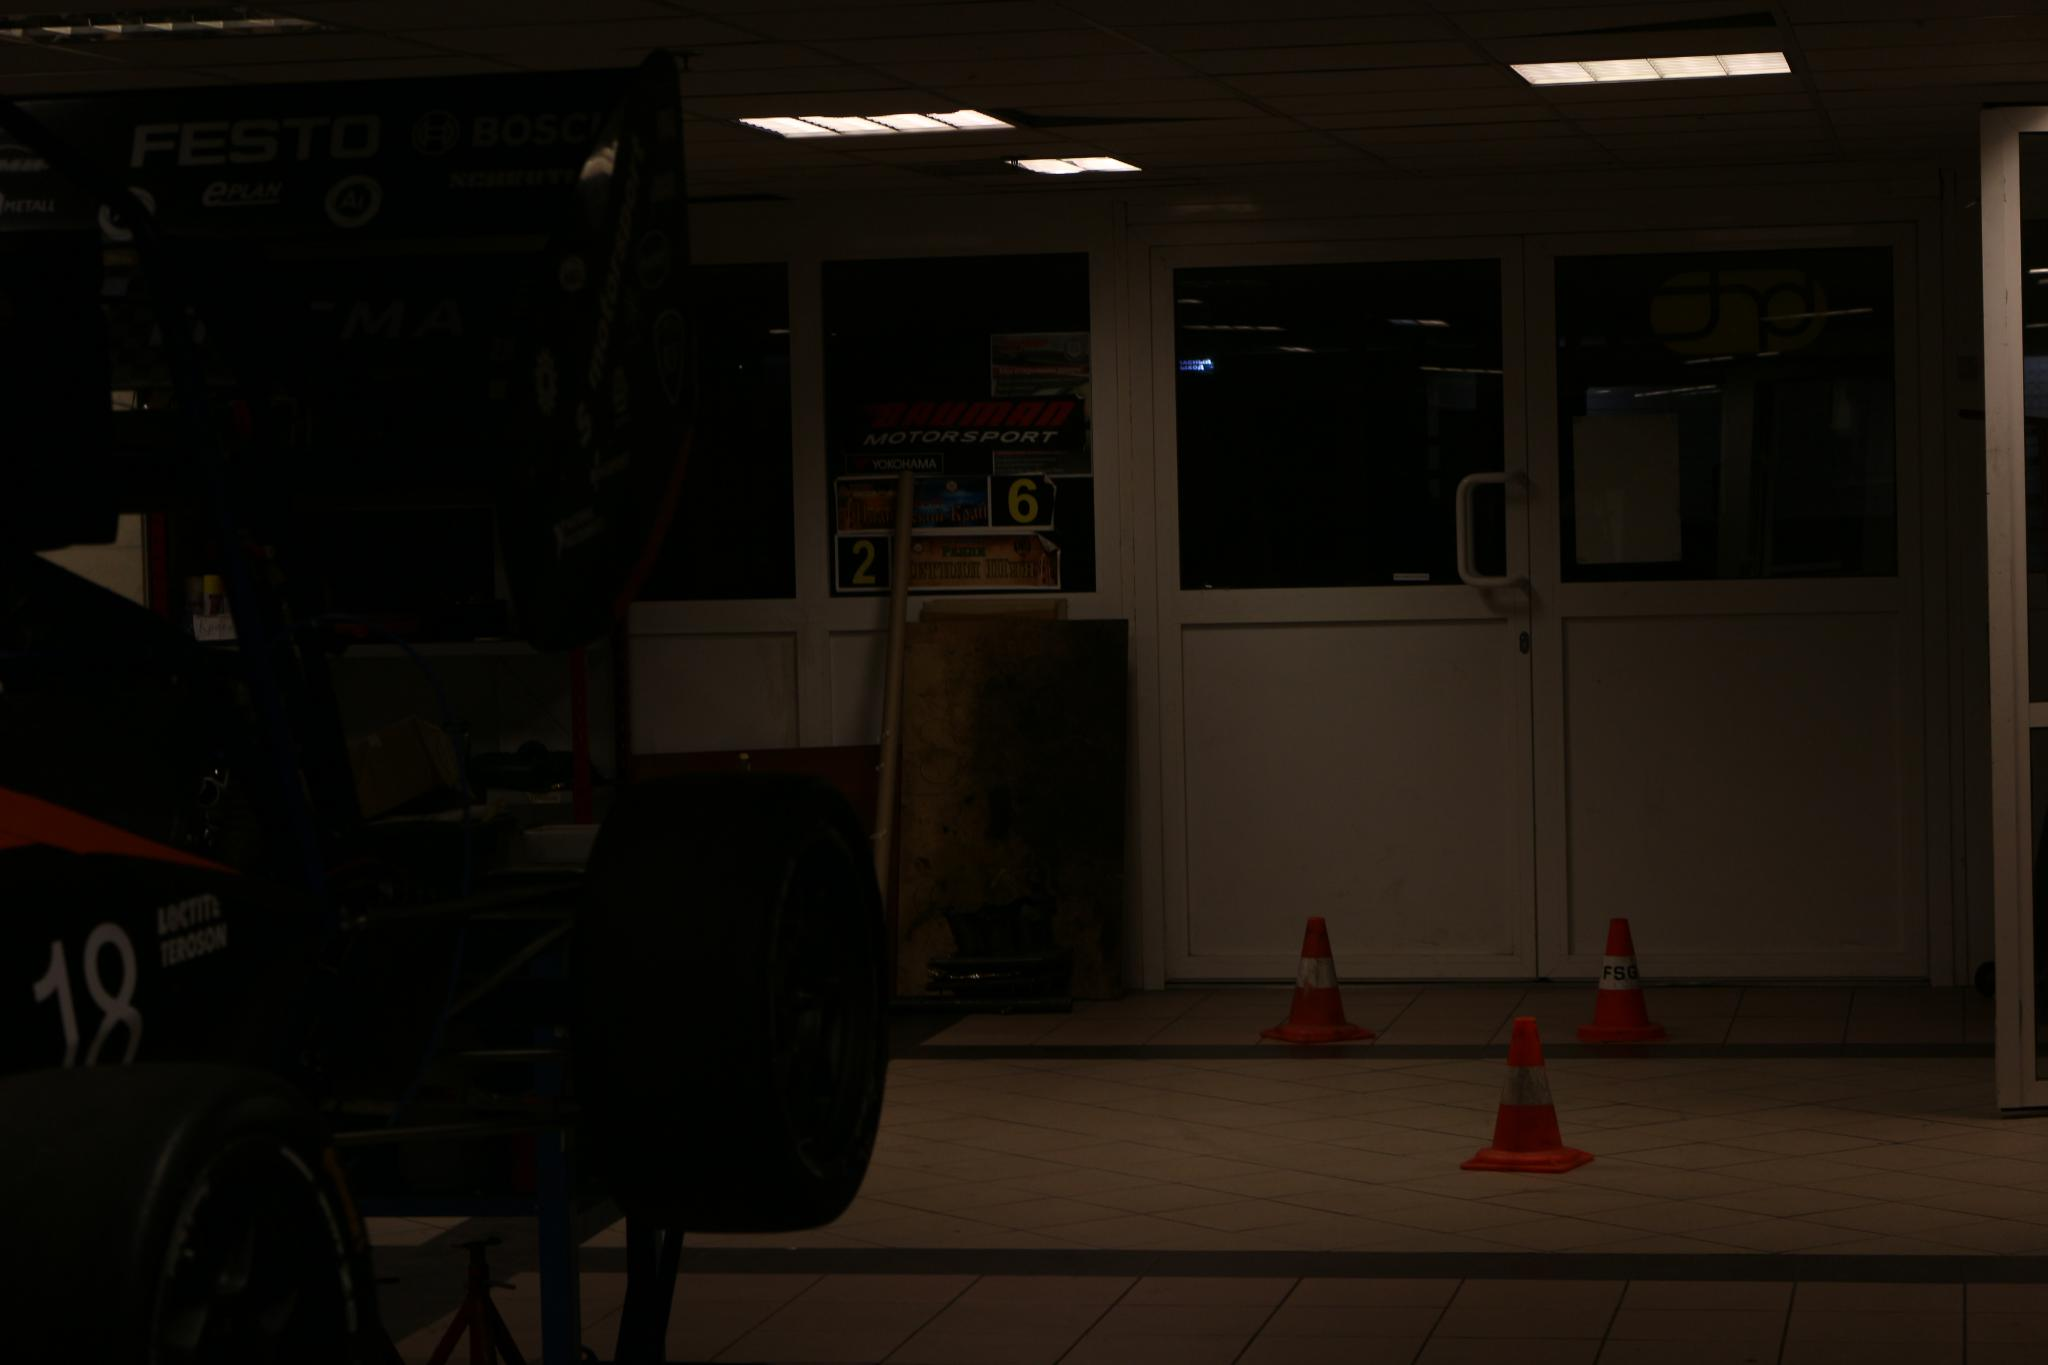Orange_Cone: (1462, 1009, 1588, 1176), (1564, 906, 1672, 1054), (1267, 909, 1375, 1051)
